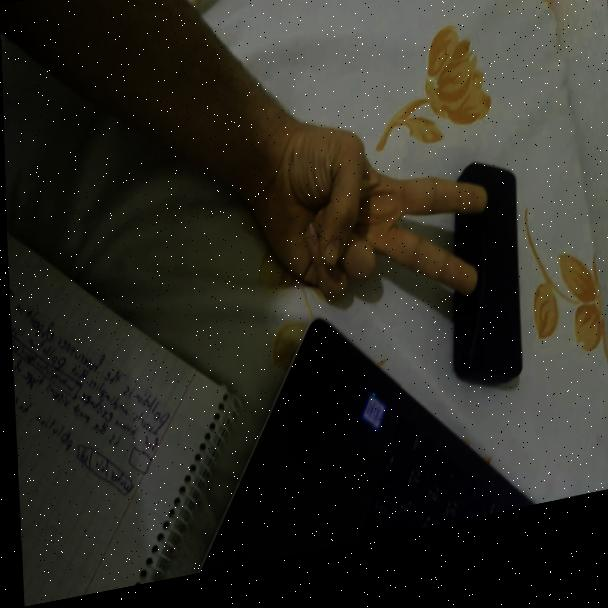two: (230, 90, 495, 374)
